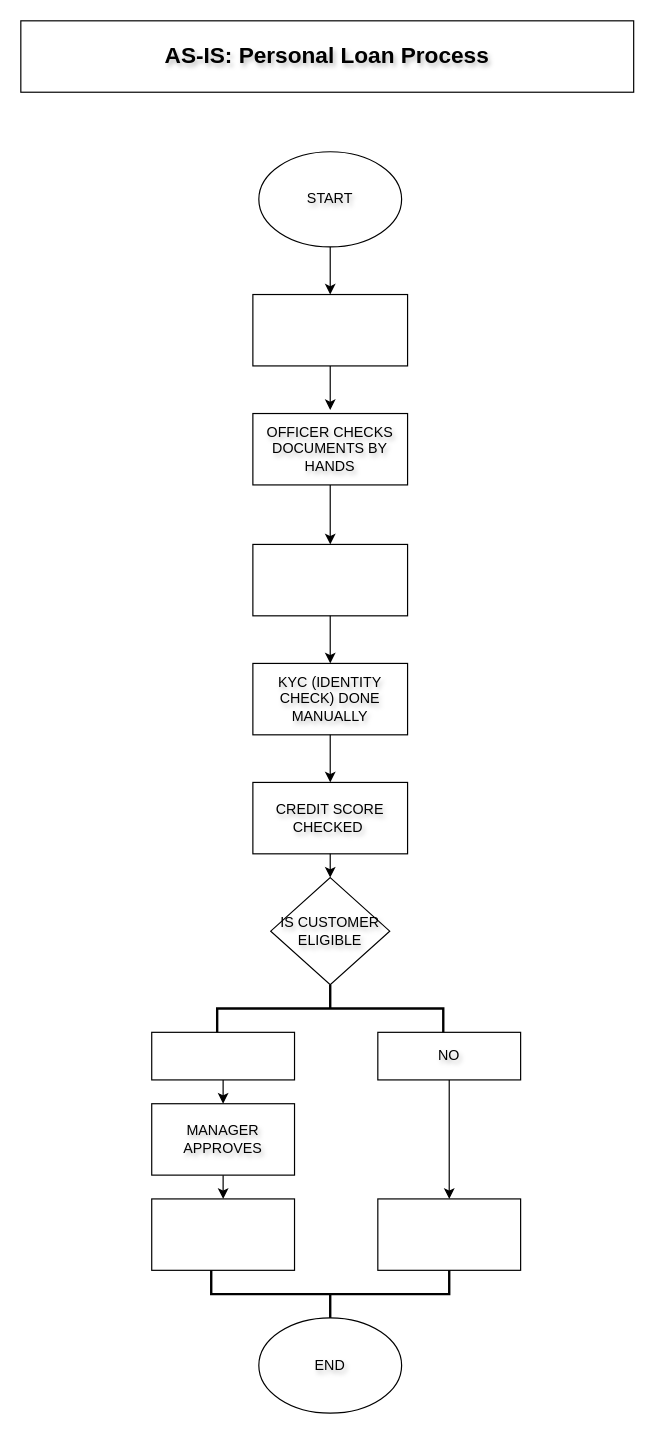
The diagram is 655 pixels wide and 1434 high, and some of its shapes have lost their labels. Each missing label, with the centre of its shape:
CUSTOMER FILLS PAPER FORMS AT BRANCH: pixel 330 329
LOAN MONEY SENT: pixel 223 1234
OFFICER TYPES DATA INTO SYSTEM: pixel 330 579
REJECTION LETTER: pixel 449 1234
YES: pixel 223 1055
